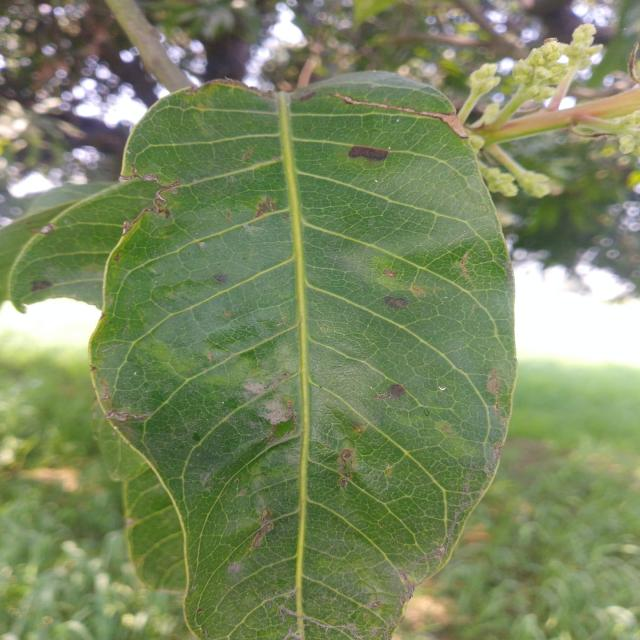Bacterial Cancer: (439, 108, 468, 134)
black die: (349, 147, 393, 168)
